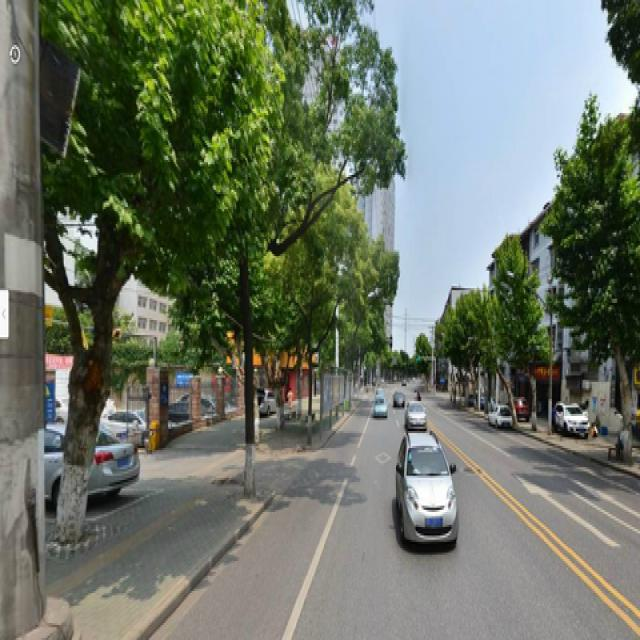meta: (49, 11, 243, 514)
